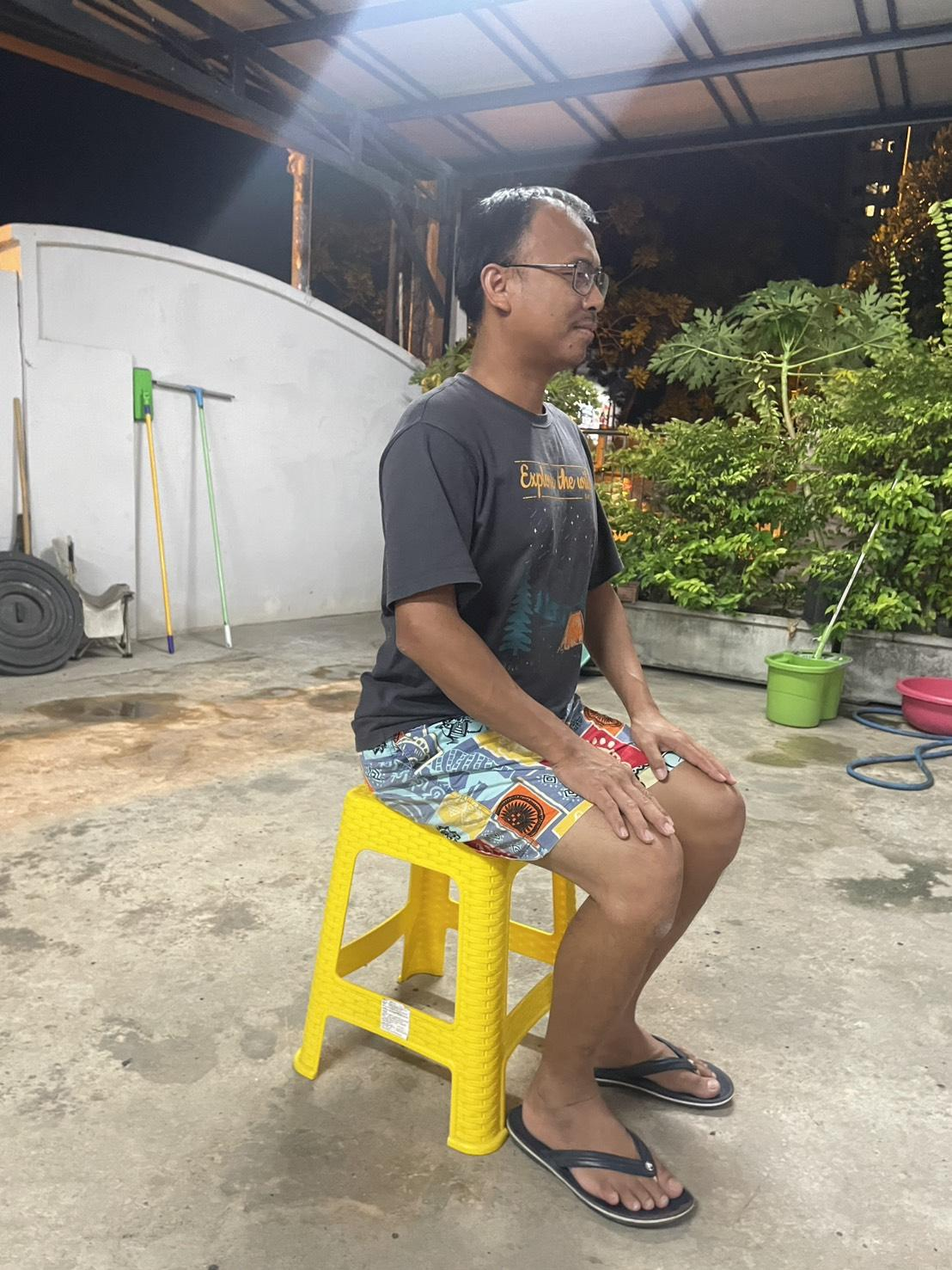GoodPosture: (354, 188, 744, 1227)
